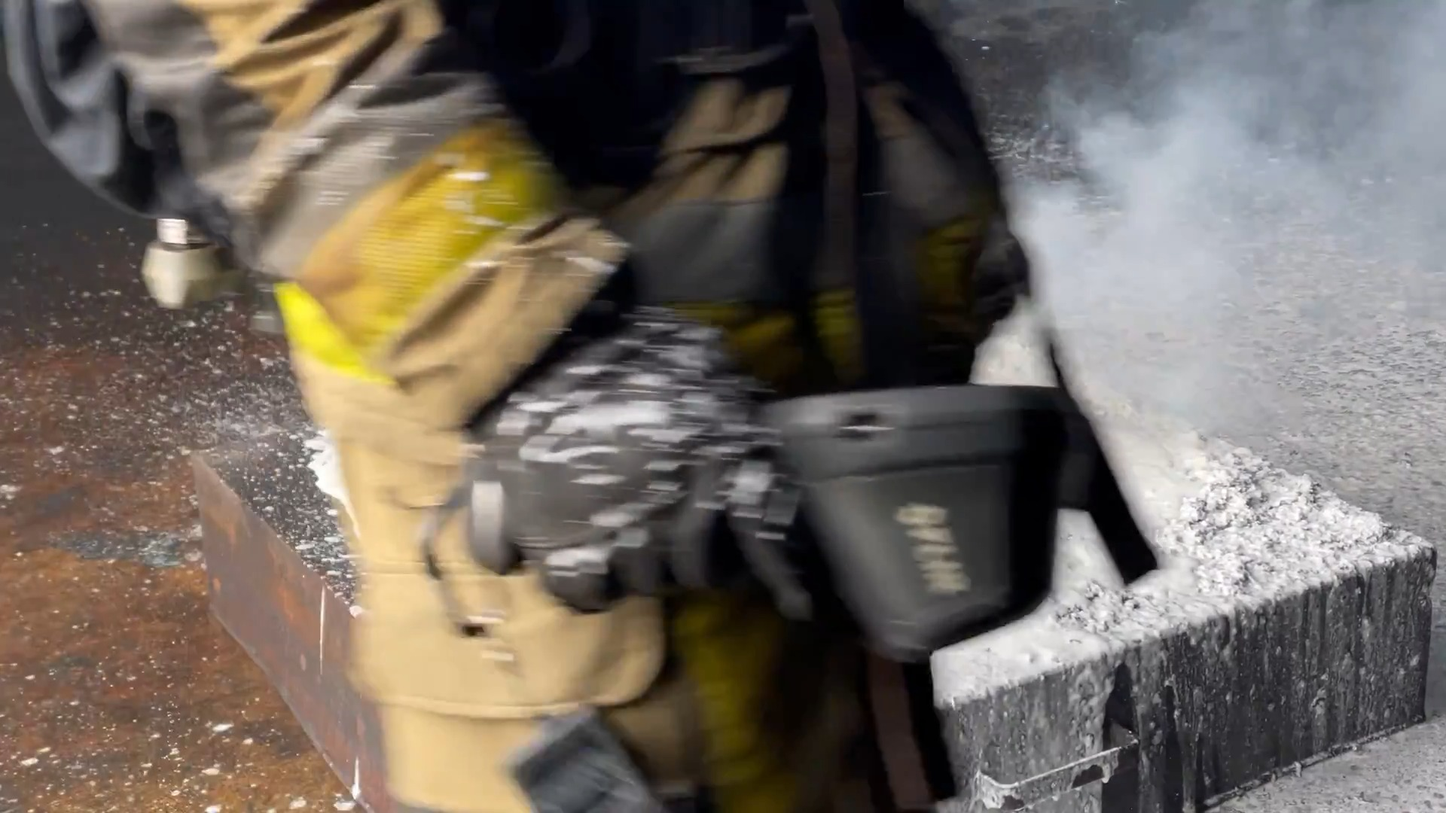smoke: (977, 50, 1398, 549)
